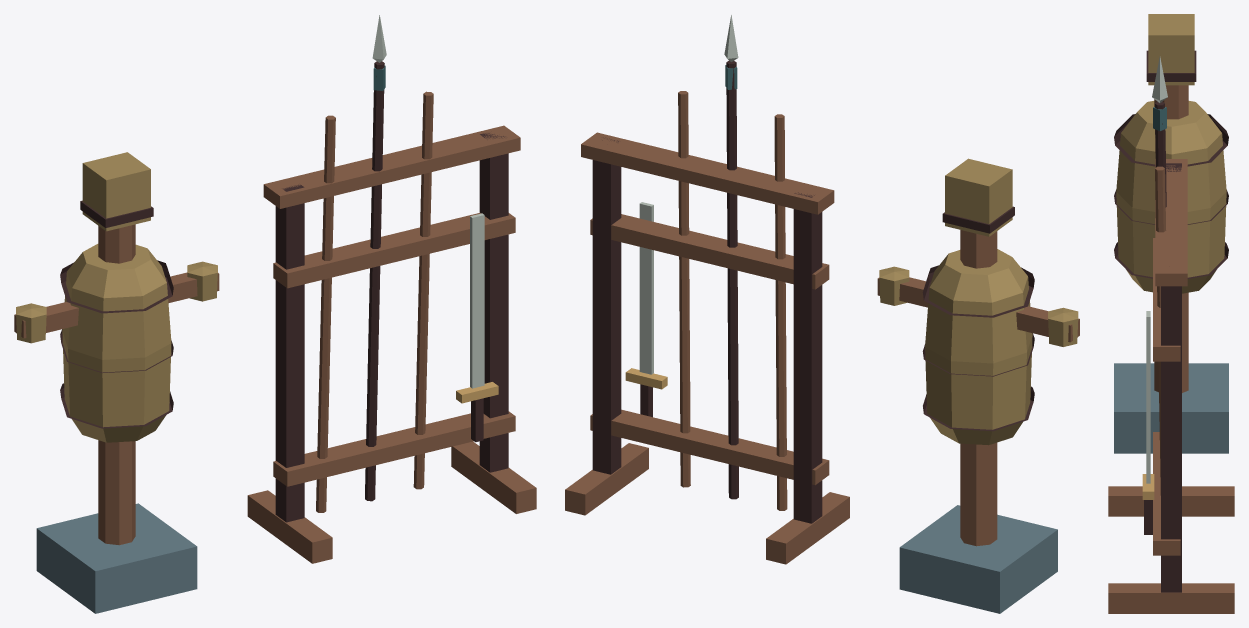
Rendered from training_dummy_rack.glb.
3 renders of one model, left to right at view 1: azimuth 30°, elevation 25°; view 2: azimuth 150°, elevation 25°; view 3: azimuth 270°, elevation 25°, orthographic. The views are drawn at different scales.
Parts seen in each view (by area): view 1: TrainingDummyRack / Cedar, TrainingDummyRack / Straw, TrainingDummyRack / Timber, TrainingDummyRack / Stone, TrainingDummyRack / Coping; view 2: TrainingDummyRack / Cedar, TrainingDummyRack / Timber, TrainingDummyRack / Straw, TrainingDummyRack / Stone, TrainingDummyRack / Coping; view 3: TrainingDummyRack / Straw, TrainingDummyRack / Cedar, TrainingDummyRack / Timber, TrainingDummyRack / Stone, TrainingDummyRack / Coping, TrainingDummyRack / Bronze, TrainingDummyRack / Fabric.
Boxes of the visible parts, x1,y1,x2,y2 form: TrainingDummyRack / Cedar: [14, 91, 536, 563]; TrainingDummyRack / Straw: [16, 152, 217, 442]; TrainingDummyRack / Timber: [60, 61, 508, 522]; TrainingDummyRack / Stone: [36, 503, 197, 613]; TrainingDummyRack / Coping: [372, 15, 484, 388]; TrainingDummyRack / Cedar: [565, 91, 1079, 564]; TrainingDummyRack / Timber: [592, 60, 1034, 523]; TrainingDummyRack / Straw: [879, 158, 1078, 445]; TrainingDummyRack / Stone: [899, 505, 1057, 613]; TrainingDummyRack / Coping: [639, 15, 738, 374]; TrainingDummyRack / Straw: [1116, 14, 1226, 293]; TrainingDummyRack / Cedar: [1108, 85, 1234, 613]; TrainingDummyRack / Timber: [1114, 50, 1228, 592]; TrainingDummyRack / Stone: [1114, 363, 1228, 453]; TrainingDummyRack / Coping: [1146, 56, 1167, 483]; TrainingDummyRack / Bronze: [1142, 474, 1154, 499]; TrainingDummyRack / Fabric: [1153, 107, 1166, 130].
Bounding box in the file's own units: 2.44 × 2.38 × 0.55.
